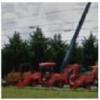tractors: (46, 63, 96, 88), (20, 64, 60, 88), (4, 63, 38, 86)
